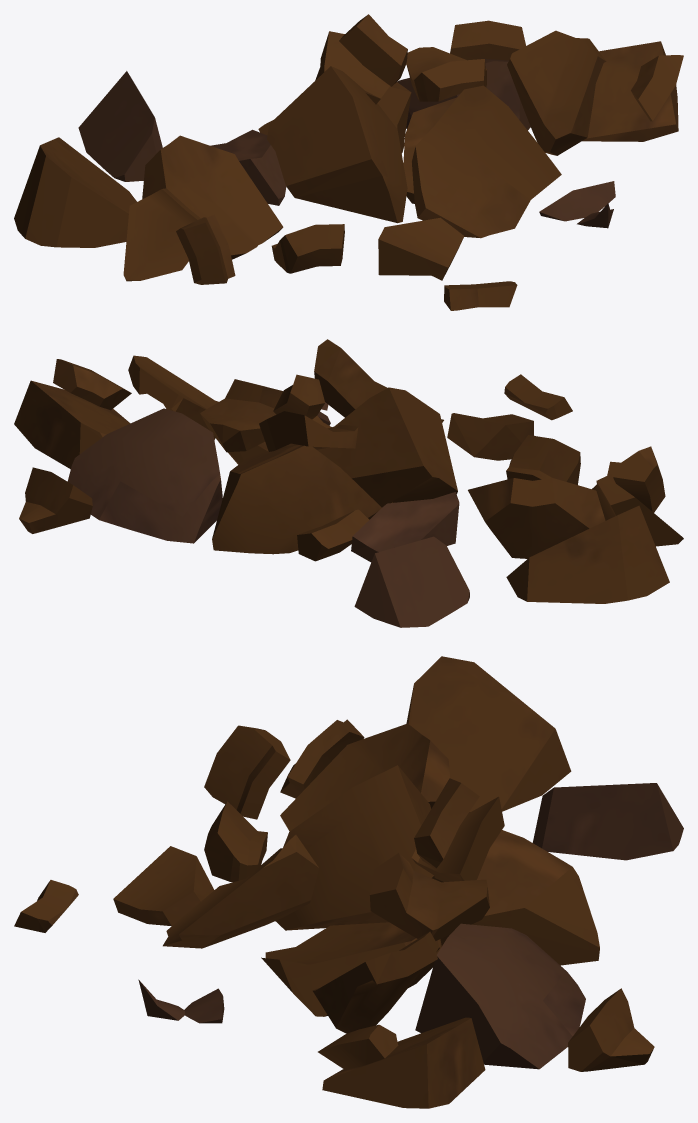
Rendered from Vase_Rubble_Medium.gltf.
3 renders of one model, top to bottom at view 1: azimuth 30°, elevation 25°; view 2: azimuth 150°, elevation 25°; view 3: azimuth 270°, elevation 25°, orthographic. The views are drawn at different scales.
Visible parts, largest first — view 1: Vase_Rubble_Medium; view 2: Vase_Rubble_Medium; view 3: Vase_Rubble_Medium.
Part boxes in pixels (x1=…): Vase_Rubble_Medium: x1=14, y1=14, x2=683, y2=310; Vase_Rubble_Medium: x1=14, y1=339, x2=683, y2=627; Vase_Rubble_Medium: x1=14, y1=656, x2=683, y2=1108.
Size of the model in its own units: 0.7969 by 0.1746 by 0.5984.
1 material, 1 textured.
